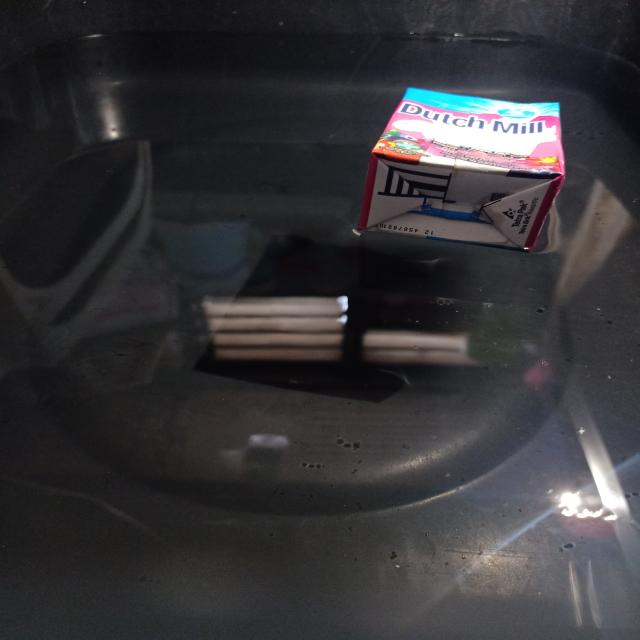Cardboard Box: (358, 88, 564, 252)
